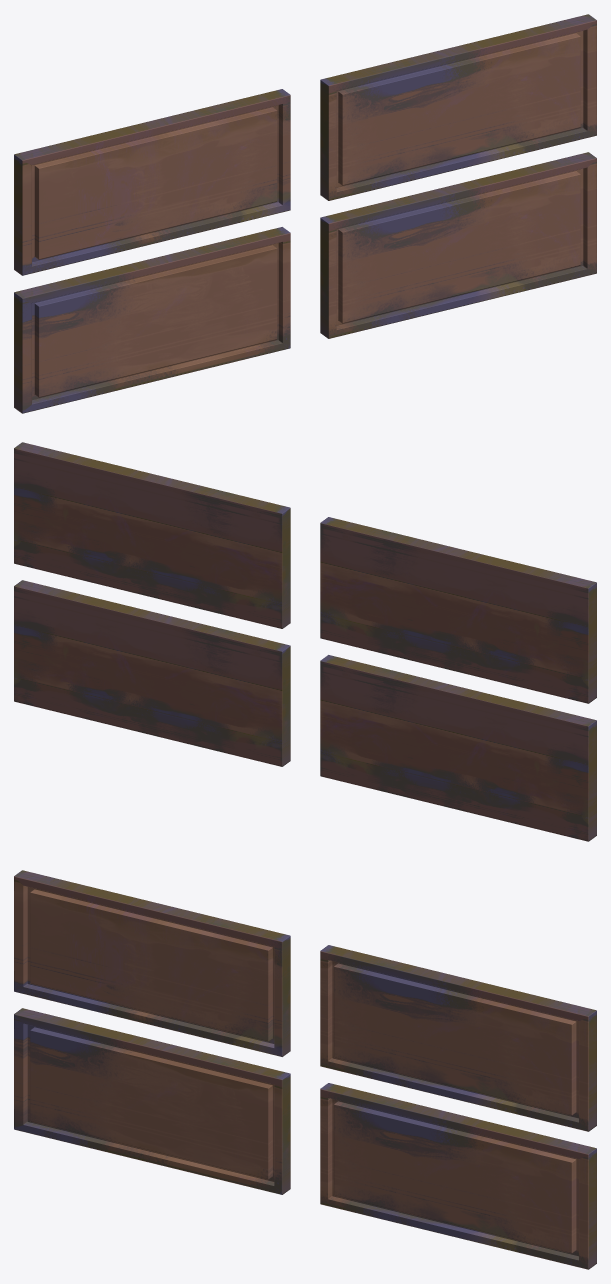
Rendered from ClosetDoor_B.fbx.
3 views of the same model, one above another, from view 1: azimuth 30°, elevation 25°; view 2: azimuth 150°, elevation 25°; view 3: azimuth 330°, elevation 25° (orthographic).
Visible parts, largest first — view 1: CabinetDoors_B; view 2: CabinetDoors_B; view 3: CabinetDoors_B.
Part boxes in pixels (x1=…): CabinetDoors_B: x1=14, y1=14, x2=596, y2=413; CabinetDoors_B: x1=14, y1=442, x2=596, y2=841; CabinetDoors_B: x1=14, y1=870, x2=596, y2=1269.
Bounding box in the file's own units: 114 × 48.02 × 2.91.
